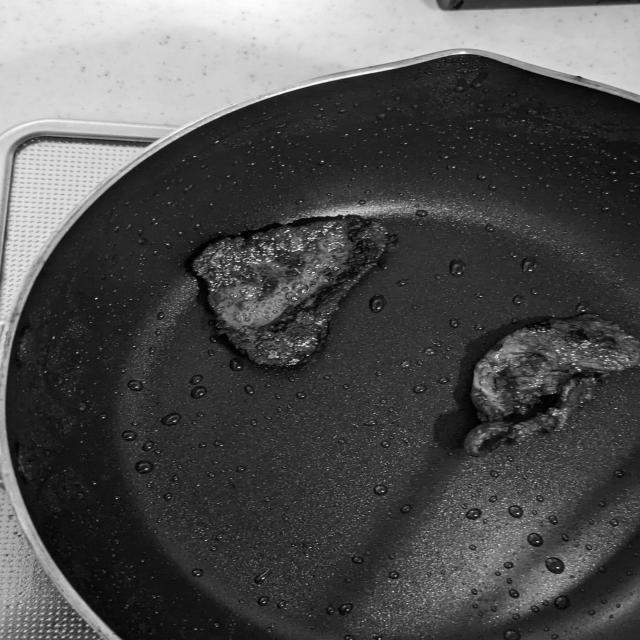overcooked beef,: (184, 208, 406, 379), (455, 303, 640, 460)
